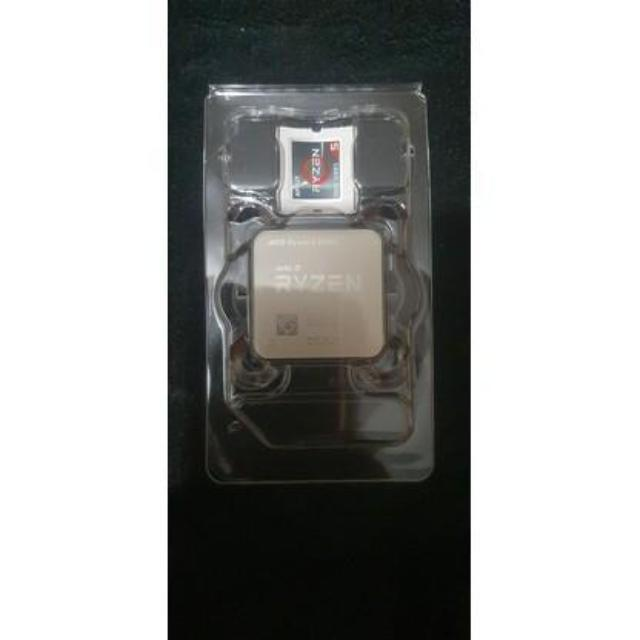CPU: (250, 227, 387, 359)
